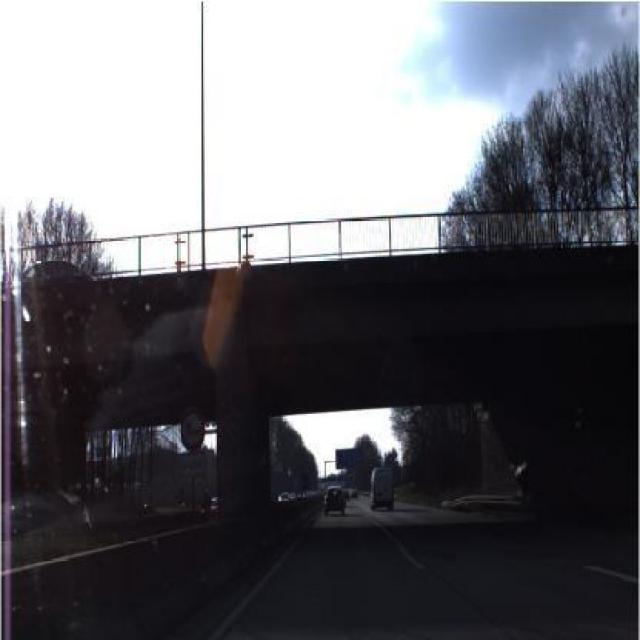Zakaz wyprzedzania: (179, 404, 207, 451)
